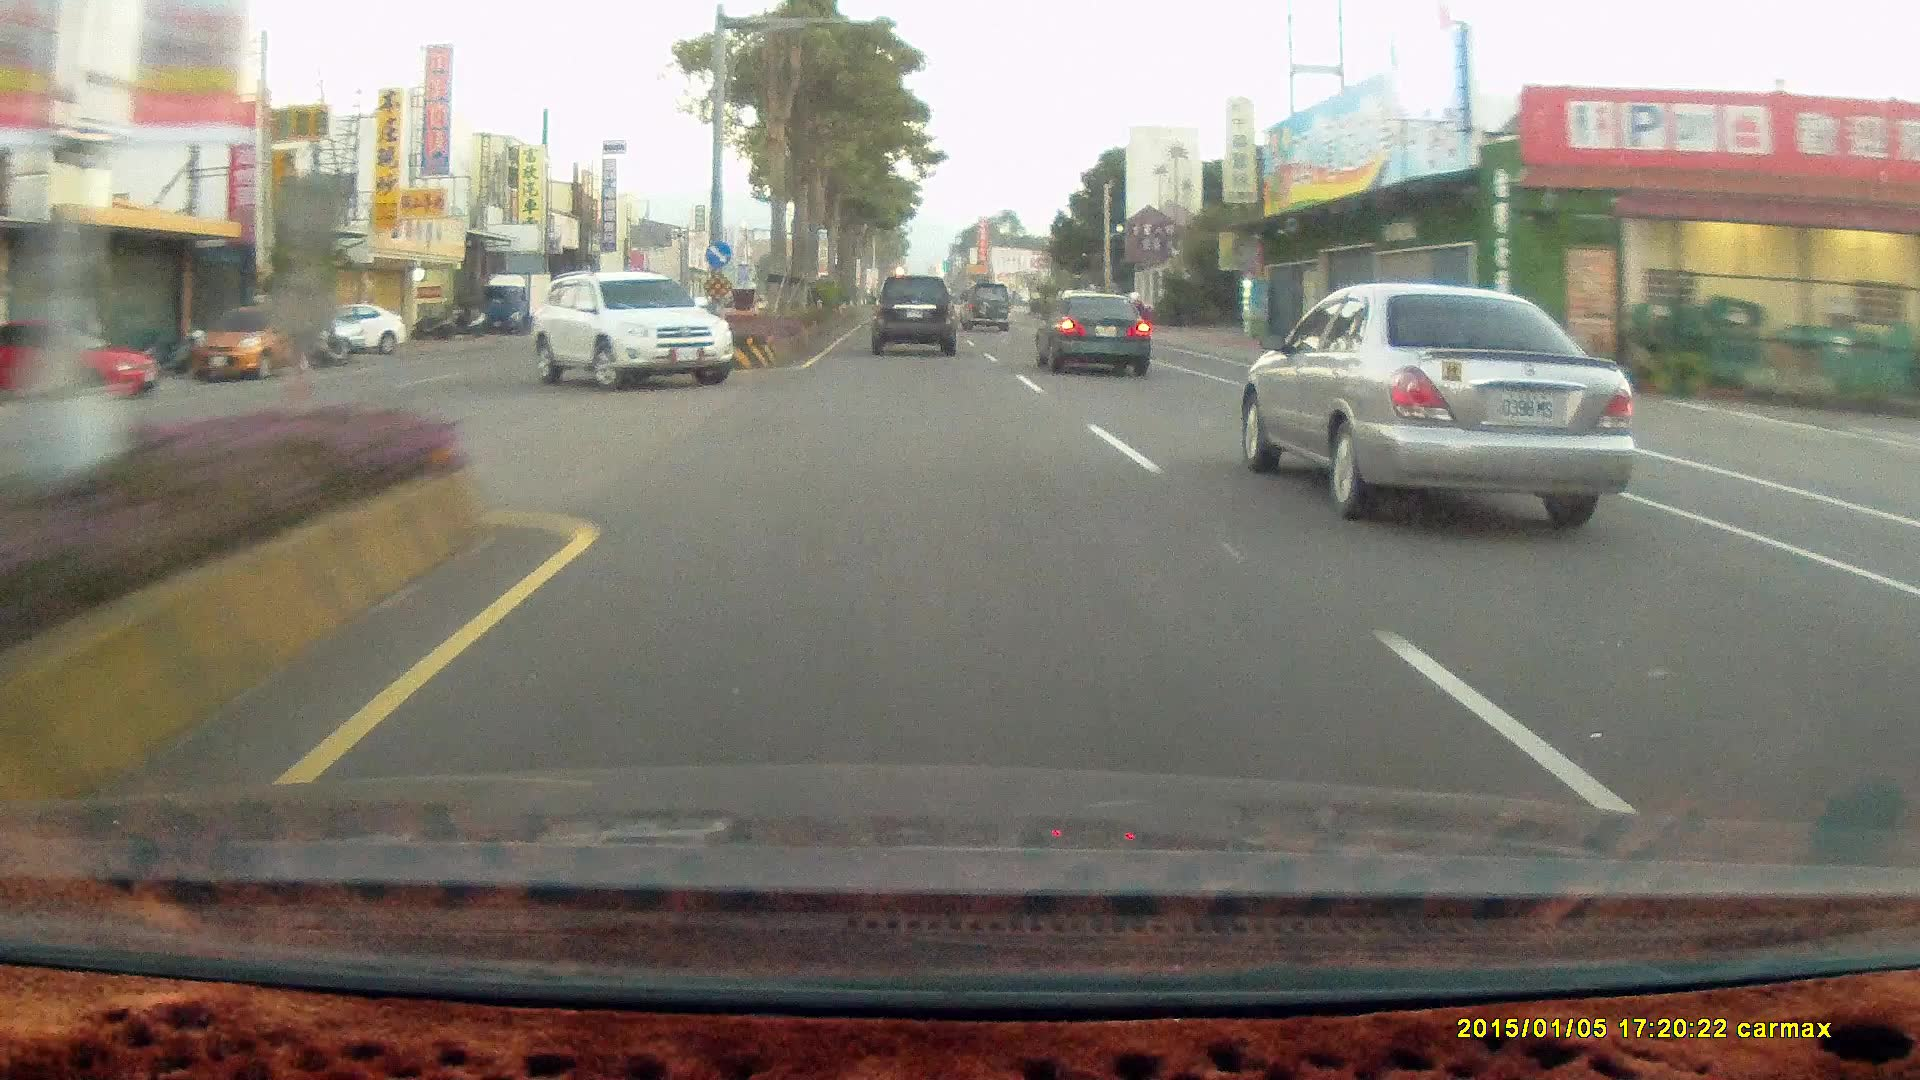vehicle: (1232, 276, 1633, 530), (522, 269, 737, 388), (522, 269, 735, 388), (1, 320, 156, 407), (0, 319, 157, 404), (1034, 286, 1151, 373), (189, 303, 314, 381), (189, 303, 313, 381), (1039, 295, 1153, 378), (873, 278, 965, 361), (870, 274, 955, 352), (294, 302, 410, 356), (293, 301, 407, 353), (957, 281, 1015, 334), (957, 280, 1014, 331)
